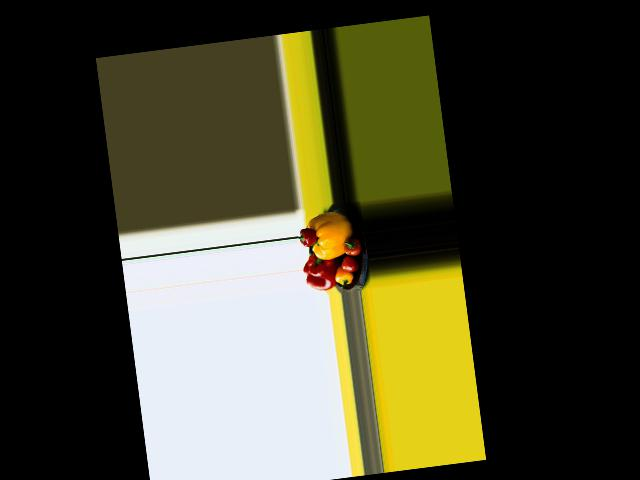bell_pepper: (333, 266, 354, 288)
